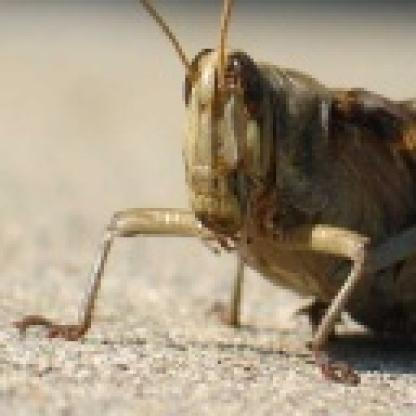grasshopper: (17, 1, 416, 383)
